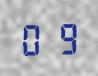nine: (49, 19, 78, 54)
zero: (19, 21, 48, 56)
